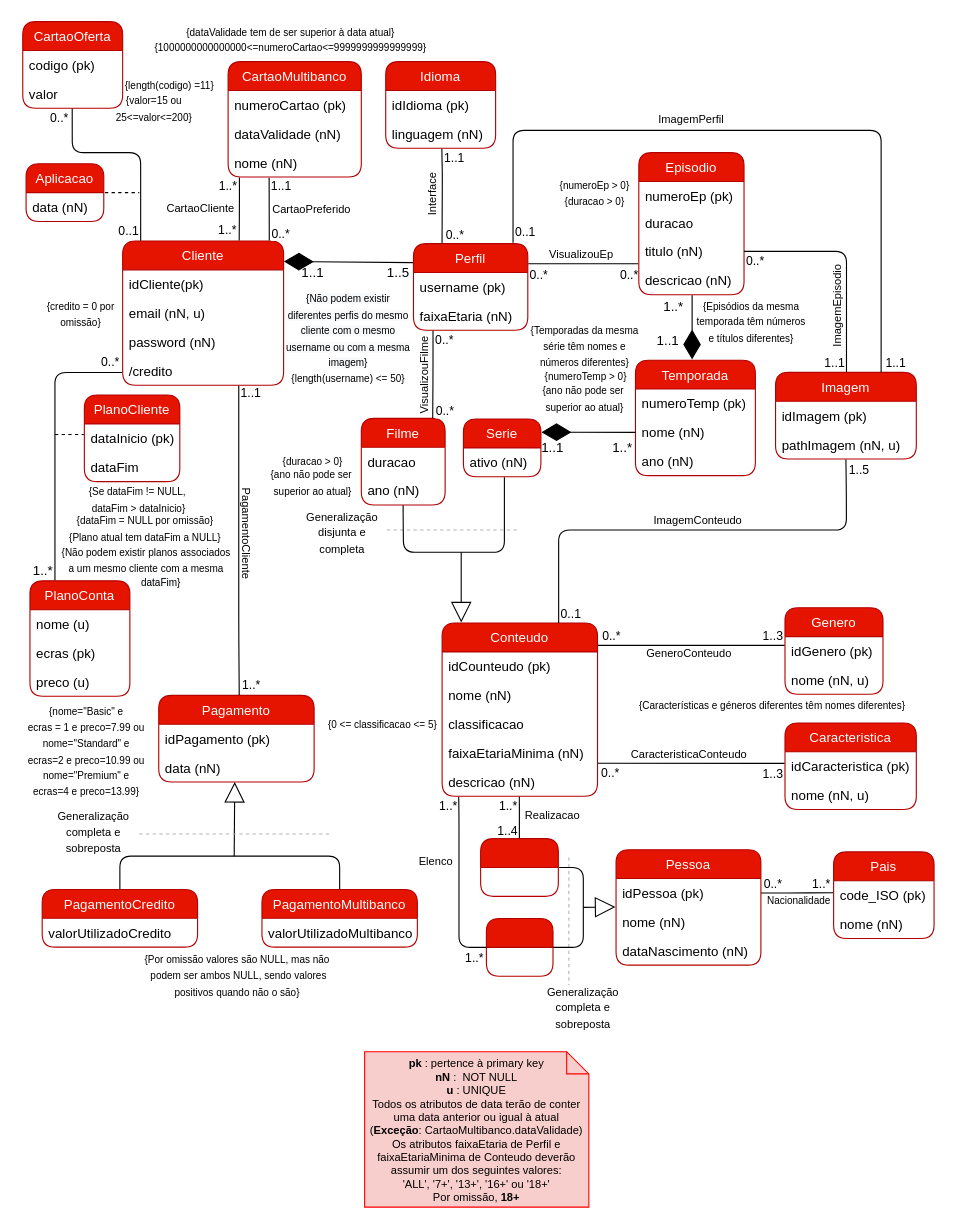
The diagram is 953 pixels wide and 1227 high, and some of its shapes have lost their labels. The centre of each missing label's shape, as x and y in pixels:
"Ator" belongs at (519,946).
"Realizador" belongs at (519,866).
